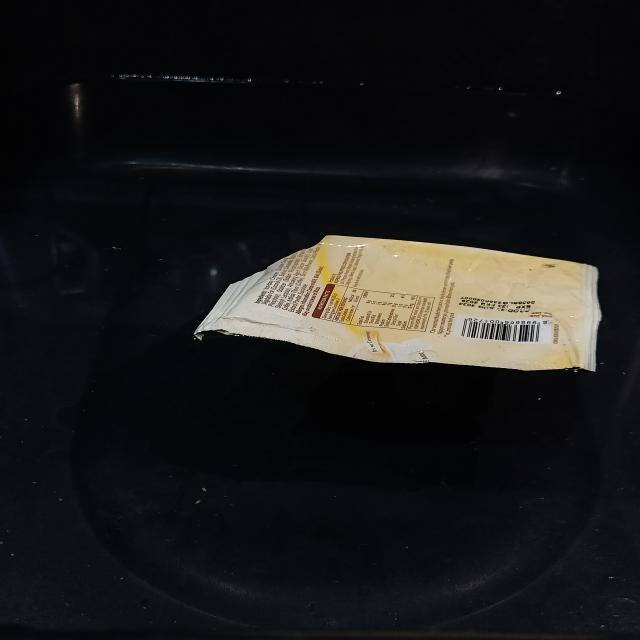Plastic Wrapper: (194, 236, 602, 371)
